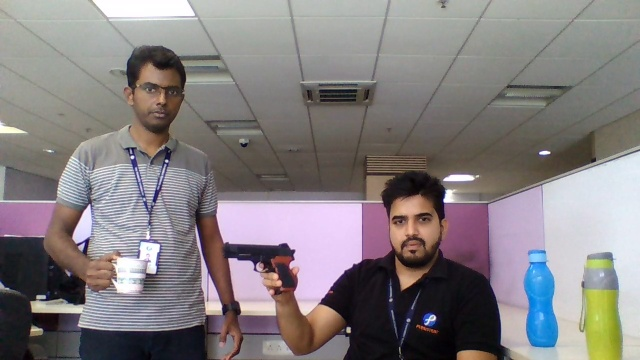gun: (222, 243, 293, 269)
